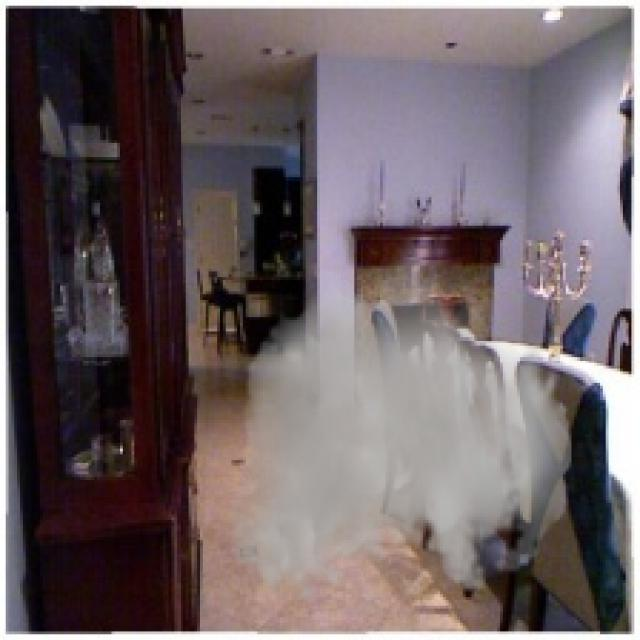smoke: (228, 243, 572, 603)
